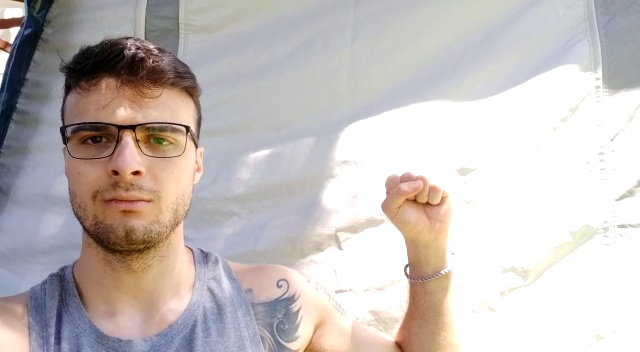Fist: (379, 169, 452, 237)
